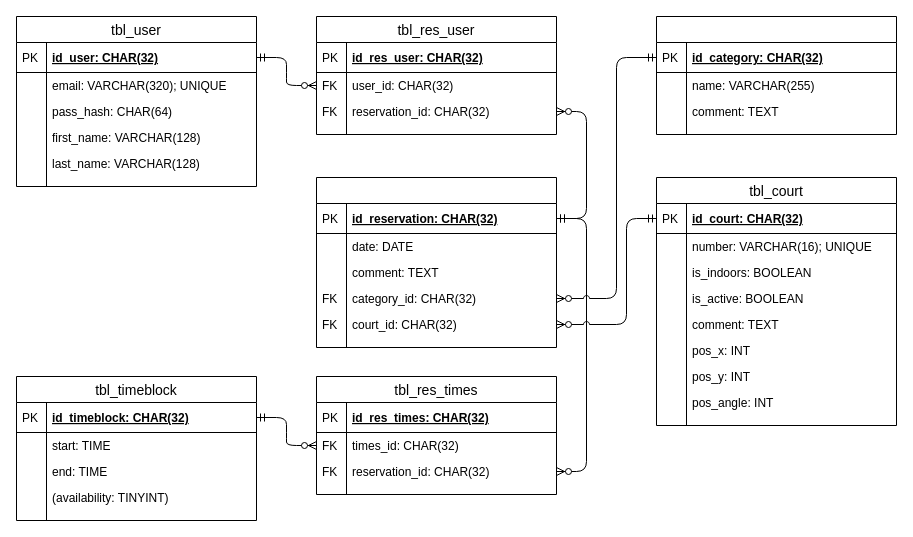
The diagram is 913 pixels wide and 537 high, and some of its shapes have lost their labels. Here are the shapes that lost their labels. From the top down, the box of each, then its label:
(656, 16, 896, 134): tbl_category
(316, 176, 556, 348): tbl_reservation
